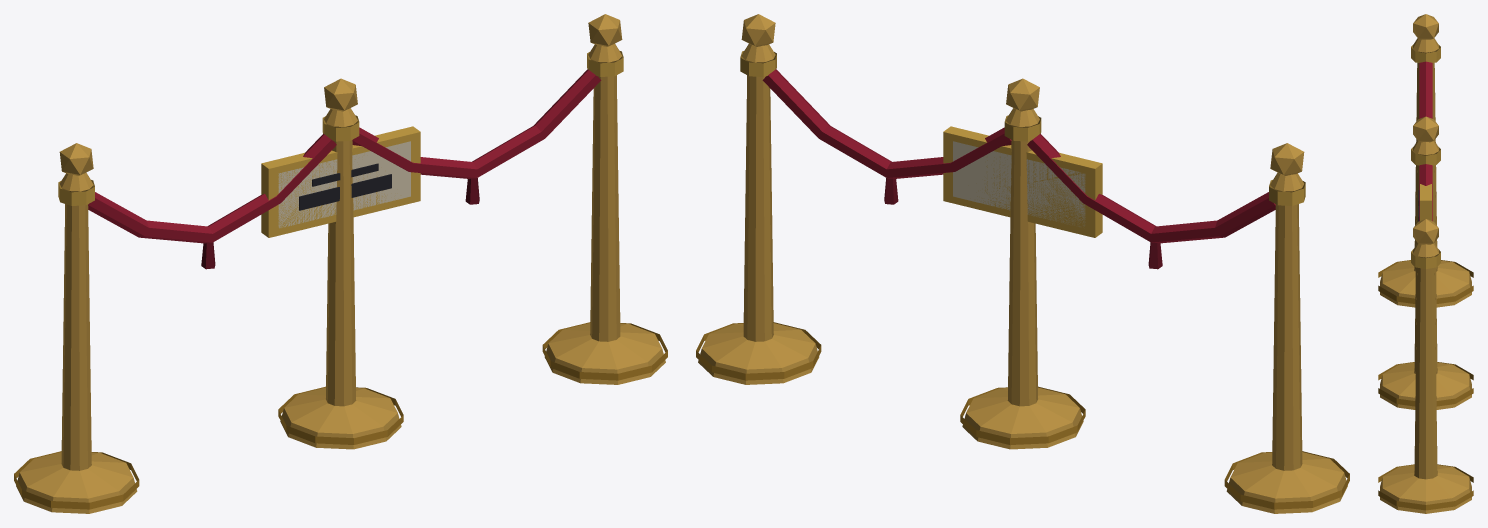
Rendered from kit-paris-decor-2.glb.
3 views of the same model, side by side, from view 1: azimuth 30°, elevation 25°; view 2: azimuth 150°, elevation 25°; view 3: azimuth 270°, elevation 25° (orthographic). The views are drawn at different scales.
Parts seen in each view (by area): view 1: kit-paris-decor-2; view 2: kit-paris-decor-2; view 3: kit-paris-decor-2.
Part boxes in pixels (<box>): kit-paris-decor-2: <box>14,14,667,513</box>; kit-paris-decor-2: <box>696,14,1349,513</box>; kit-paris-decor-2: <box>1378,14,1473,513</box>.
Size of the model in its own units: 1.93 by 1 by 0.3138.
